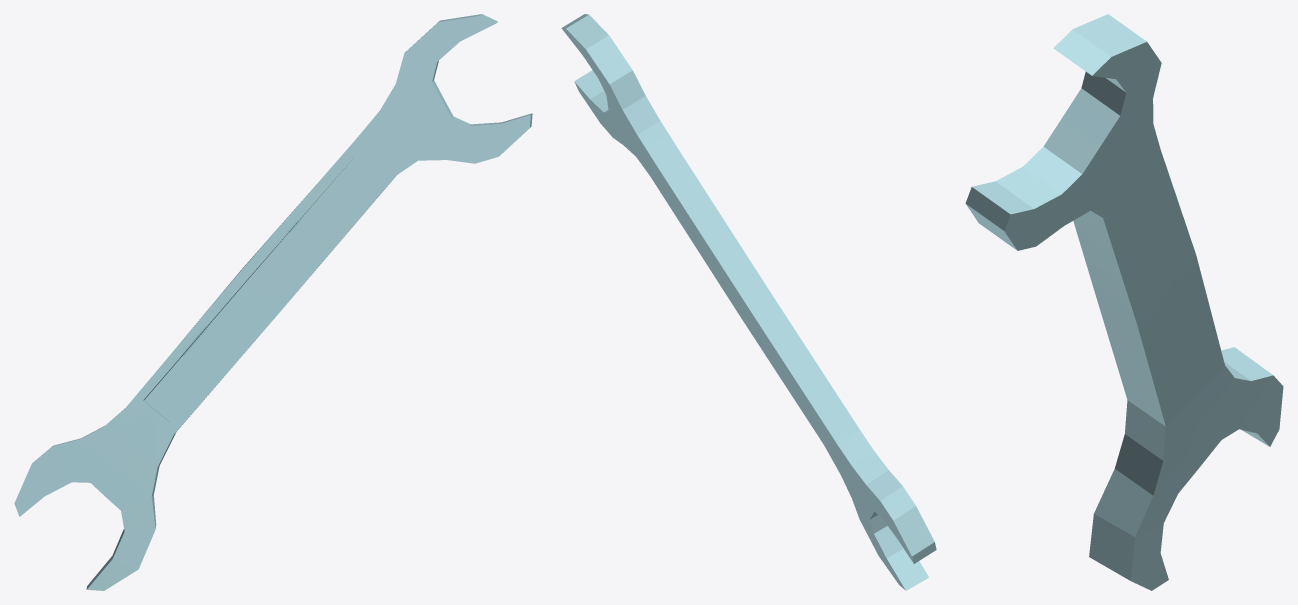
File: Komono_C_Wrench.fbx
3 views of the same model, side by side, from view 1: azimuth 30°, elevation 25°; view 2: azimuth 150°, elevation 25°; view 3: azimuth 270°, elevation 25° (orthographic). The views are drawn at different scales.
Parts seen in each view (by area): view 1: Wrench_m; view 2: Wrench_m; view 3: Wrench_m.
Boxes of the visible parts, left/top/right/bottom form: Wrench_m: left=14, top=14, right=532, bottom=590; Wrench_m: left=561, top=14, right=936, bottom=590; Wrench_m: left=965, top=14, right=1283, bottom=590.
Bounding box in the file's own units: 86.69 × 92.41 × 31.19.
